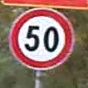limite 50: (7, 7, 74, 70)
